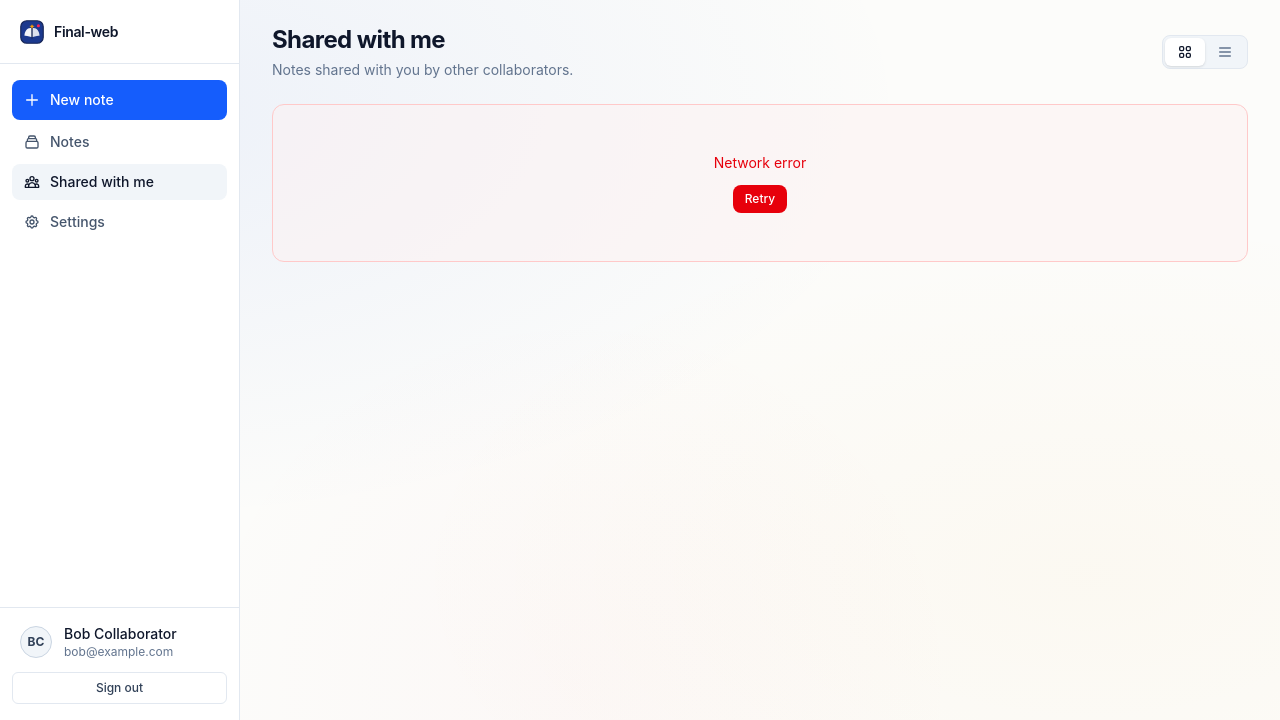
SHARE-05: Recipient Shared Workspace Tests › renders error state and retries successfully
The width and height of the screenshot is (1280, 720).
Expected: the element with test id "shared-error-state" is shown, x1=272 y1=104 x2=1248 y2=262
Expected: the text "Network error" is shown, x1=714 y1=154 x2=806 y2=171
Click the button with test id "shared-retry-button". click: (760, 199)
box: x1=733 y1=185 x2=787 y2=213
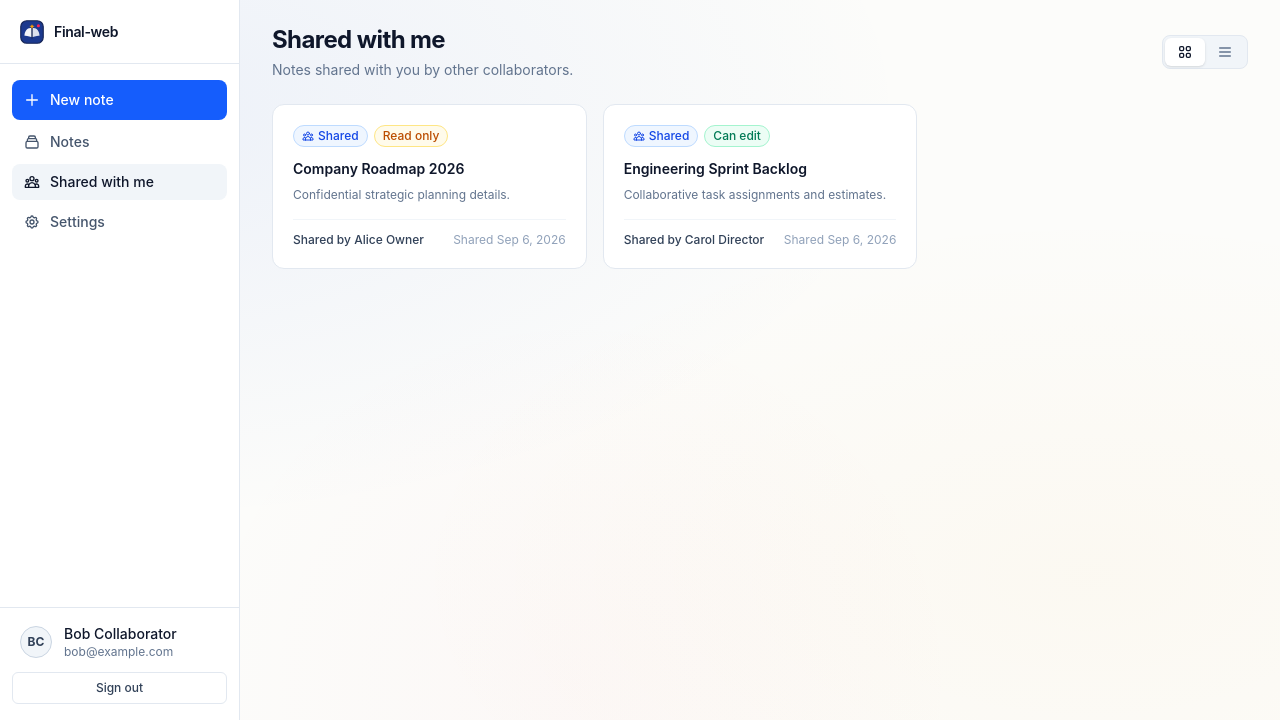
Result: the heading "Company Roadmap 2026" is shown at x1=293 y1=160 x2=464 y2=177
